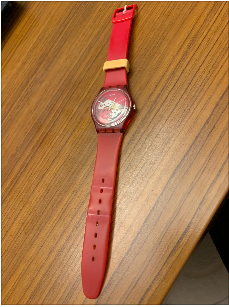object_name: (90, 2, 132, 271)
